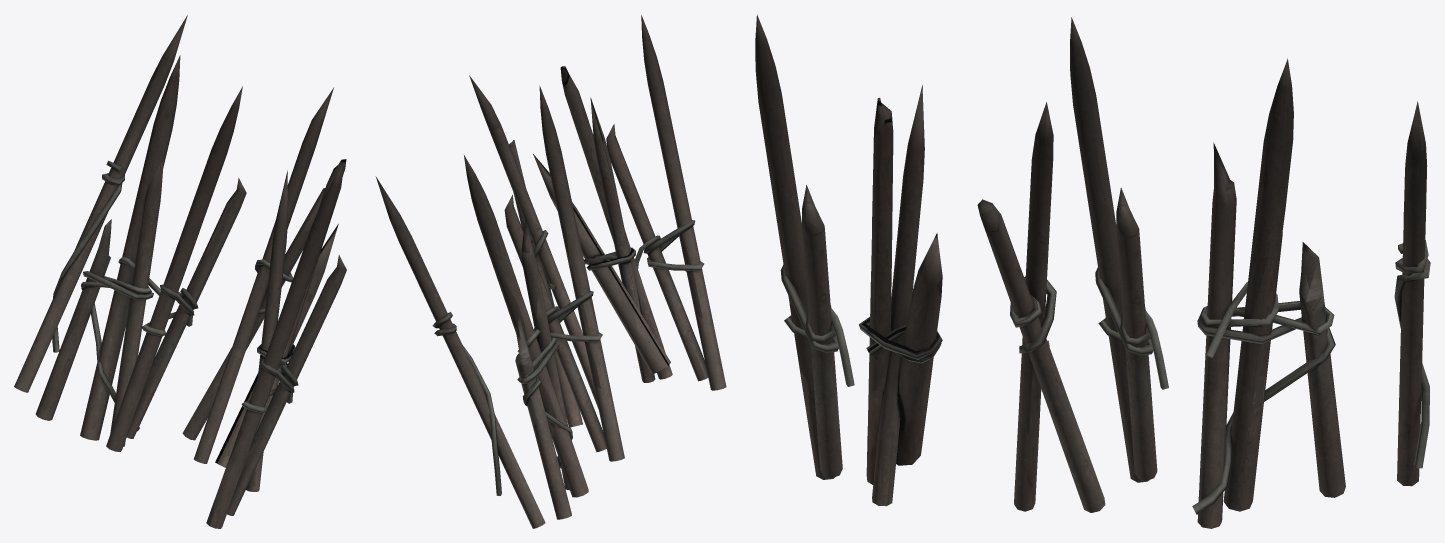
Rendered from spike_fence.fbx.
3 renders of one model, left to right at view 1: azimuth 30°, elevation 25°; view 2: azimuth 150°, elevation 25°; view 3: azimuth 270°, elevation 25°, orthographic. The views are drawn at different scales.
Parts seen in each view (by area): view 1: spike_fence; view 2: spike_fence; view 3: spike_fence.
Boxes of the visible parts, x1,y1,x2,y2 form: spike_fence: (14, 15, 346, 528); spike_fence: (375, 15, 726, 528); spike_fence: (755, 14, 1430, 528).
Size of the model in its own units: 179 by 316 by 341.
